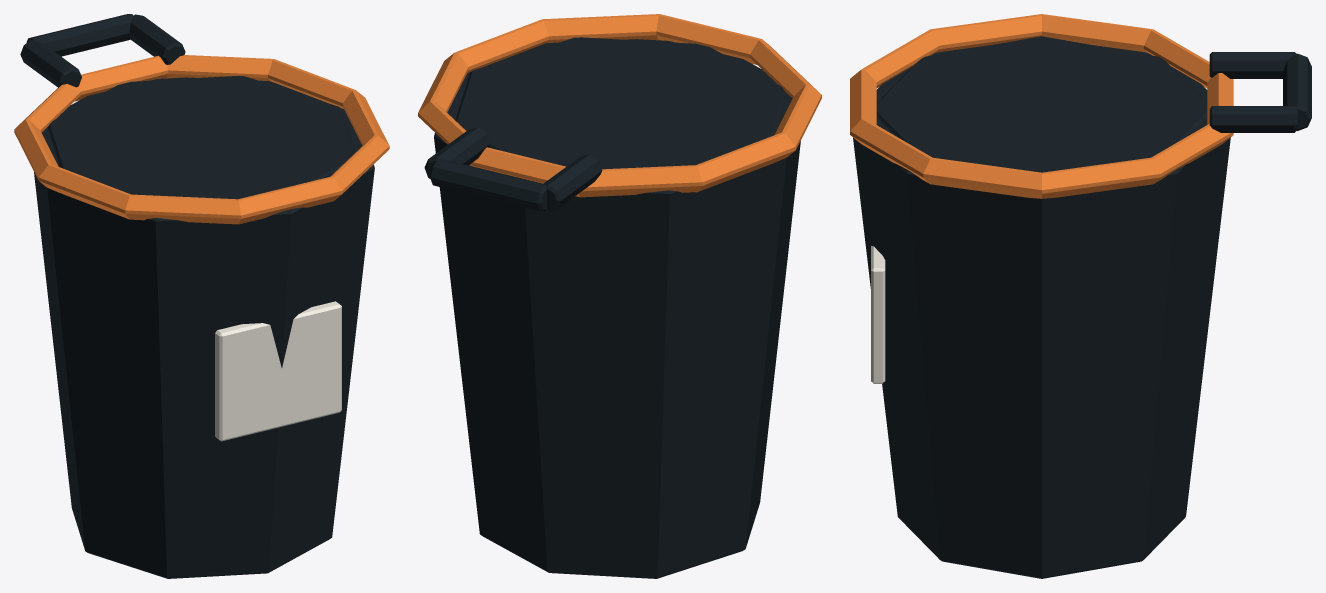
Rendered from b04_handheld_litter_collection_hoop_bag.glb.
3 renders of one model, left to right at view 1: azimuth 30°, elevation 25°; view 2: azimuth 150°, elevation 25°; view 3: azimuth 270°, elevation 25°, orthographic. The views are drawn at different scales.
Visible parts, largest first — view 1: b04_handheld_litter_collection_hoop_bag; view 2: b04_handheld_litter_collection_hoop_bag; view 3: b04_handheld_litter_collection_hoop_bag.
Part boxes in pixels (x1,y1,x2,y2): b04_handheld_litter_collection_hoop_bag: (14,14,389,578); b04_handheld_litter_collection_hoop_bag: (418,14,821,578); b04_handheld_litter_collection_hoop_bag: (850,14,1311,578).
Size of the model in its own units: 0.5049 by 0.608 by 0.5781.
